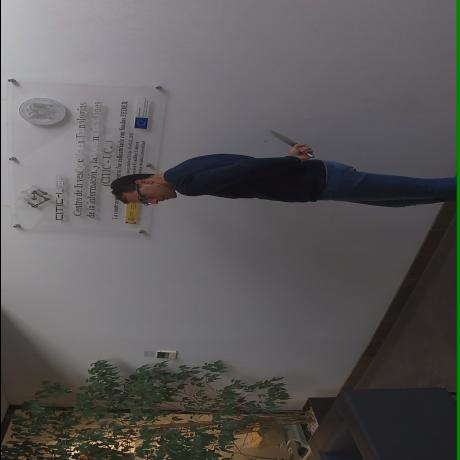1: (101, 147, 457, 209)
weapon: (267, 130, 314, 158)
